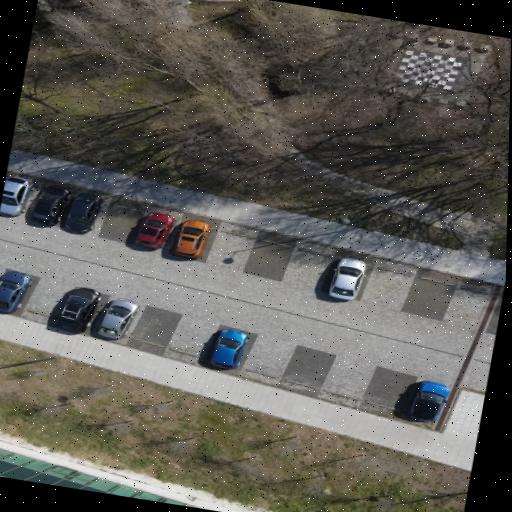car: (53, 288, 100, 333), (408, 381, 449, 422), (98, 300, 138, 340), (31, 186, 70, 226), (329, 258, 366, 300), (64, 192, 102, 232), (212, 329, 248, 368), (174, 220, 210, 258), (136, 213, 174, 249), (0, 177, 35, 216), (0, 272, 33, 313)
